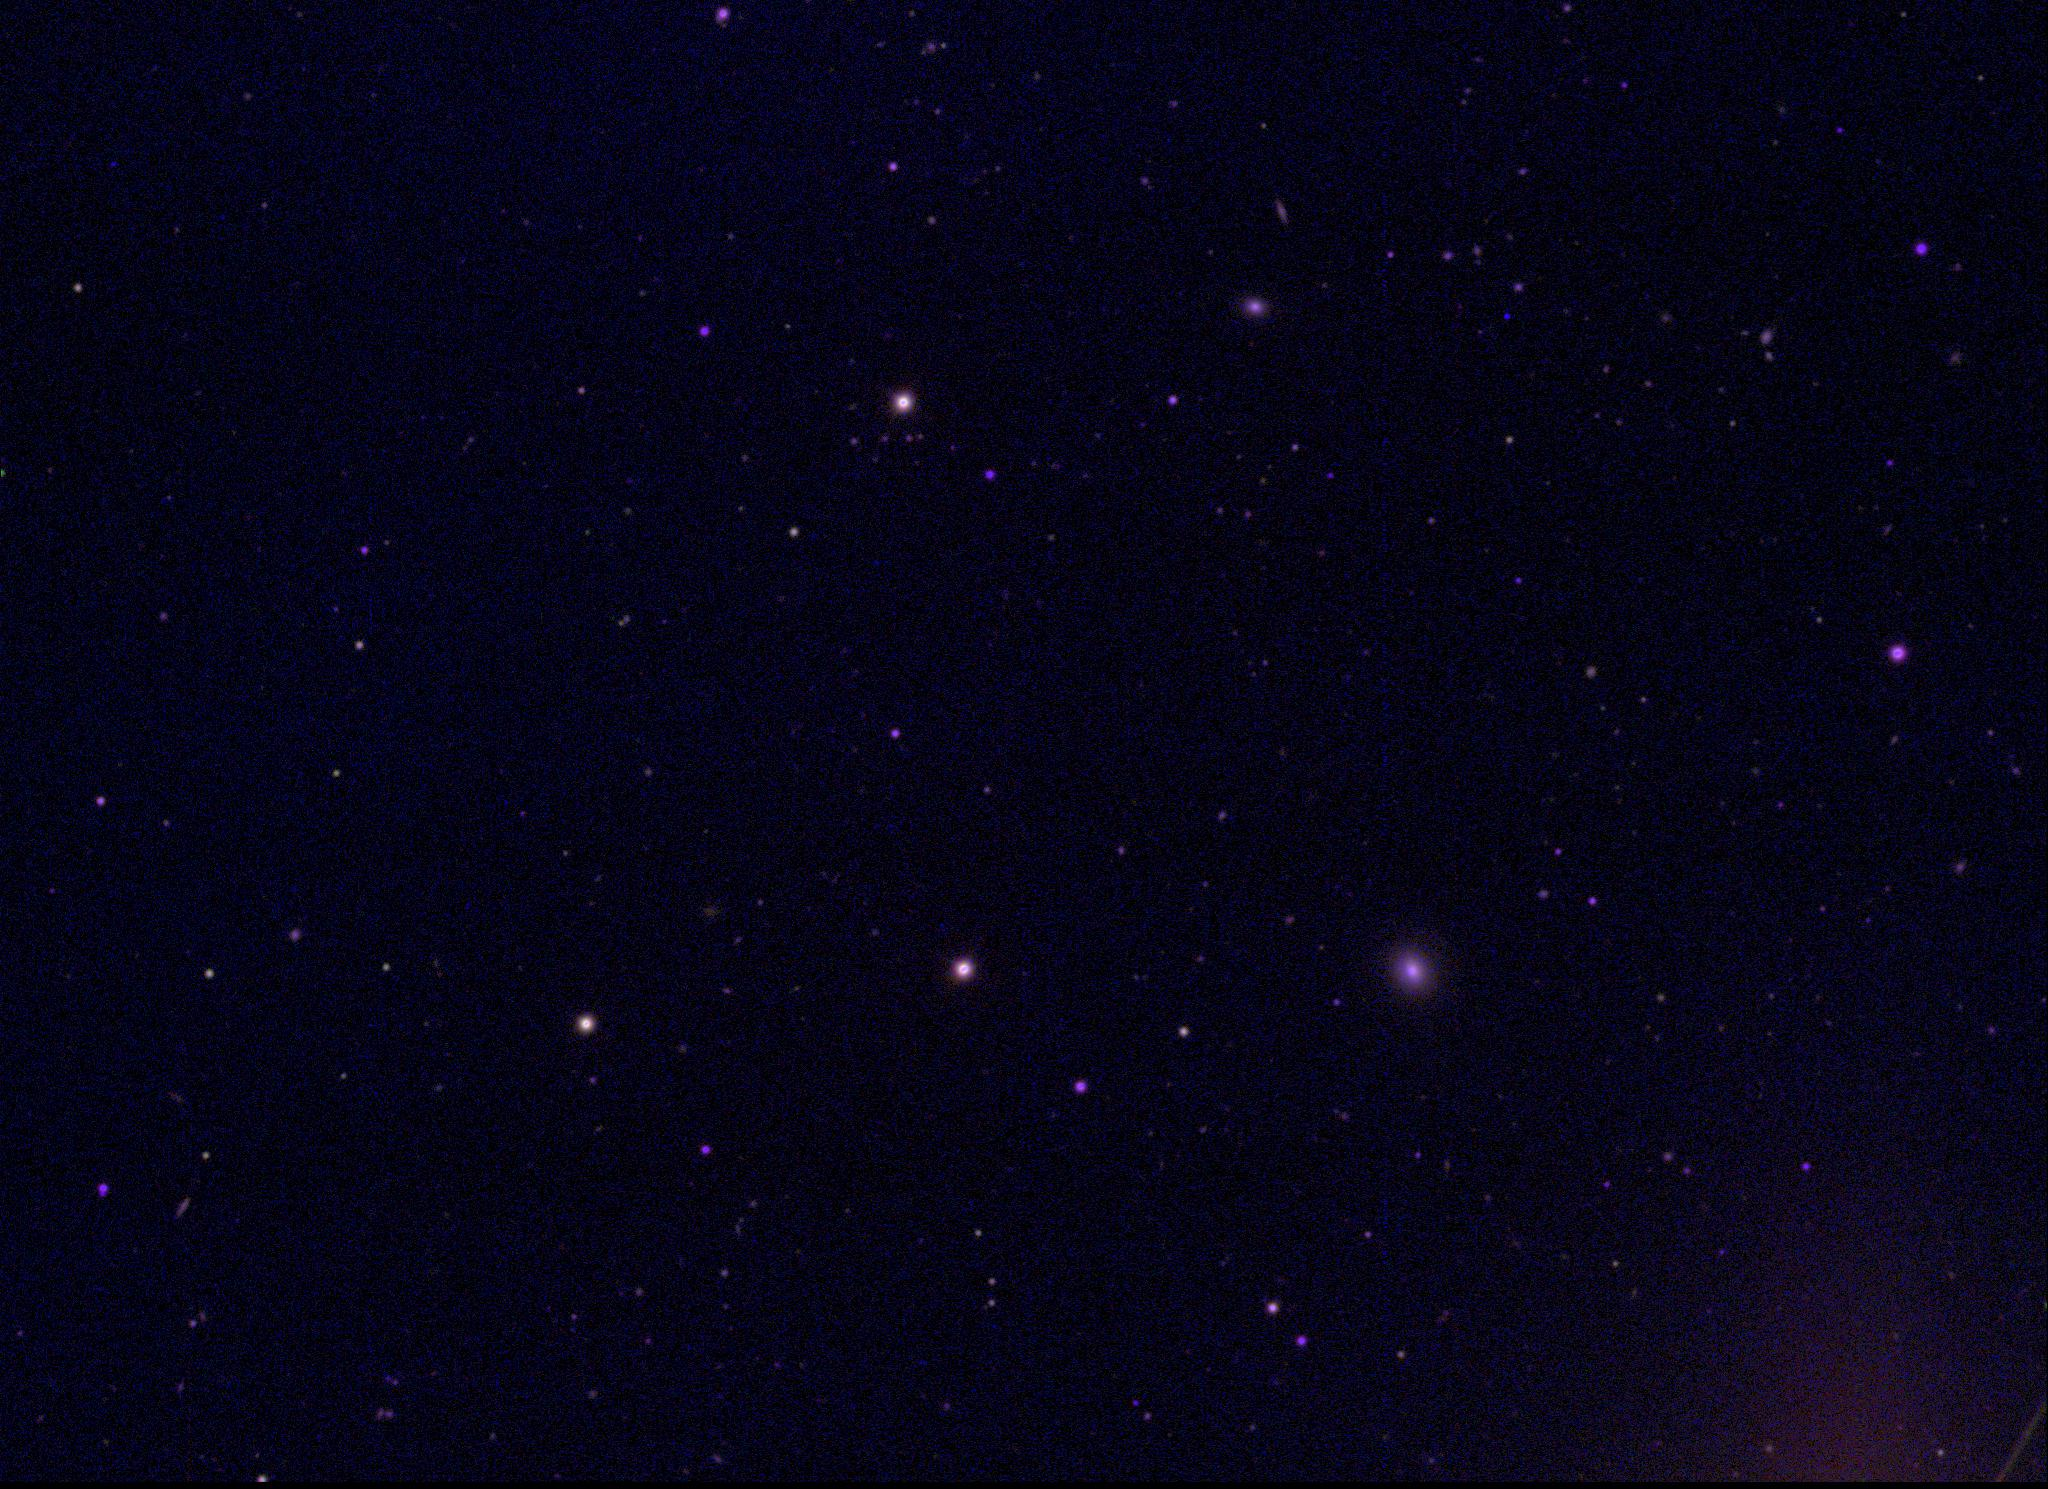L: (1499, 309, 1514, 321)
